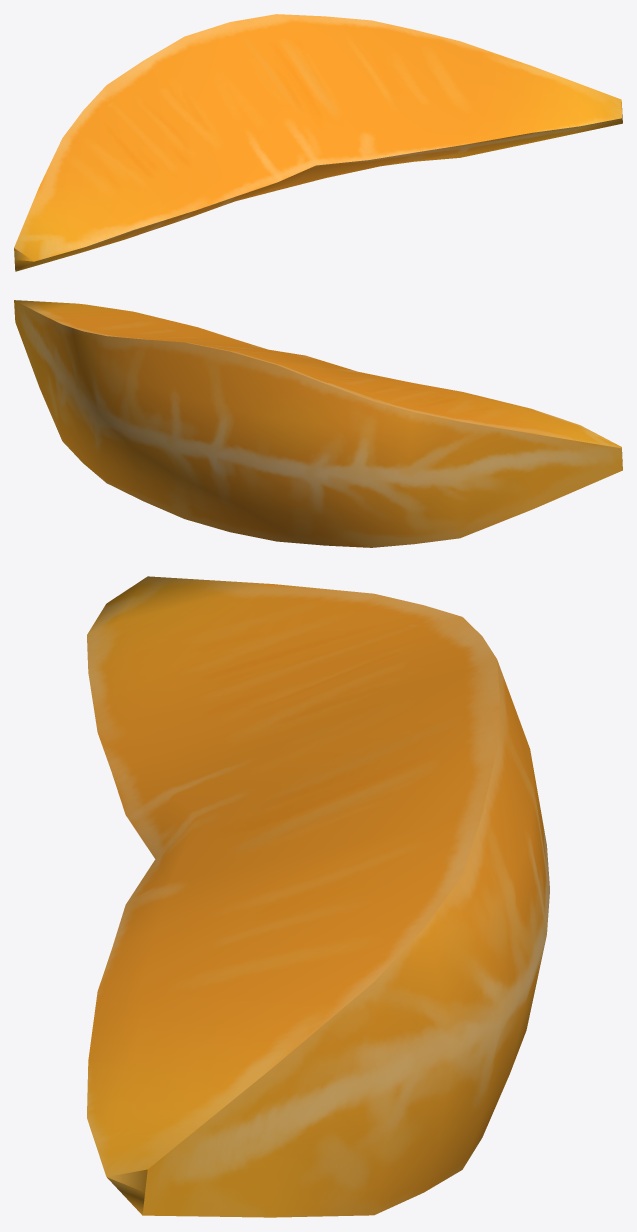
Rendered from orange.fbx.
3 views of the same model, one above another, from view 1: azimuth 30°, elevation 25°; view 2: azimuth 150°, elevation 25°; view 3: azimuth 270°, elevation 25° (orthographic). The views are drawn at different scales.
Visible parts, largest first — view 1: Box002; view 2: Box002; view 3: Box002.
Part boxes in pixels (x1,y1,x2,y2): Box002: (14,14,622,271); Box002: (14,300,622,547); Box002: (87,576,549,1217).
Size of the model in its own units: 36.66 by 10.42 by 12.1.
1 material, 1 textured.
